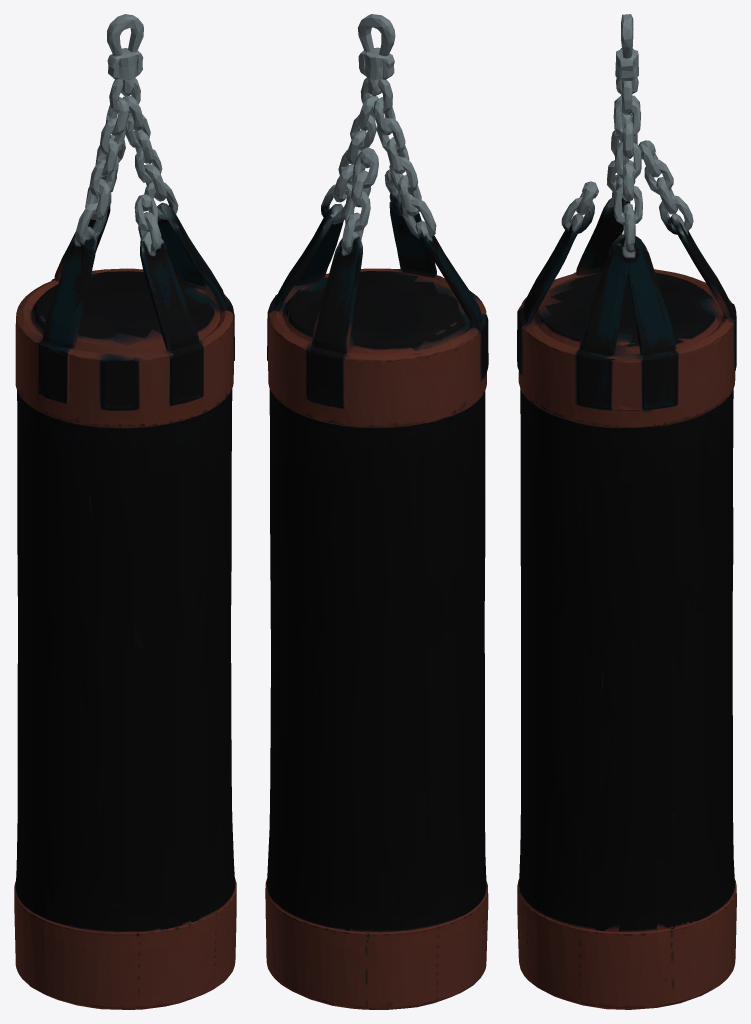
Rendered from heavy_bag_long.glb.
3 views of the same model, side by side, from view 1: azimuth 30°, elevation 25°; view 2: azimuth 150°, elevation 25°; view 3: azimuth 270°, elevation 25° (orthographic).
Parts seen in each view (by area): view 1: heavy_bag_long; view 2: heavy_bag_long; view 3: heavy_bag_long.
Part boxes in pixels (x1=…): heavy_bag_long: x1=14, y1=14, x2=236, y2=1009; heavy_bag_long: x1=265, y1=14, x2=488, y2=1009; heavy_bag_long: x1=517, y1=14, x2=736, y2=1009.
Size of the model in its own units: 0.4274 by 2 by 0.4189.
Materials: 1 (1 with a texture image).
